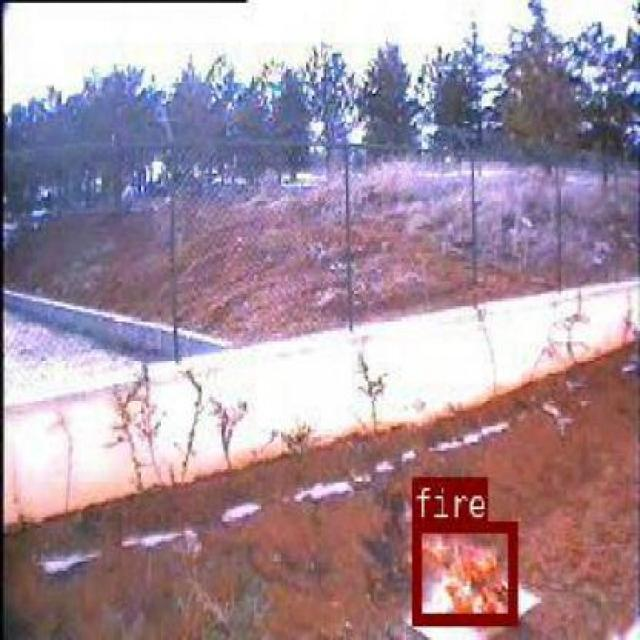Fire: (410, 518, 516, 624)
